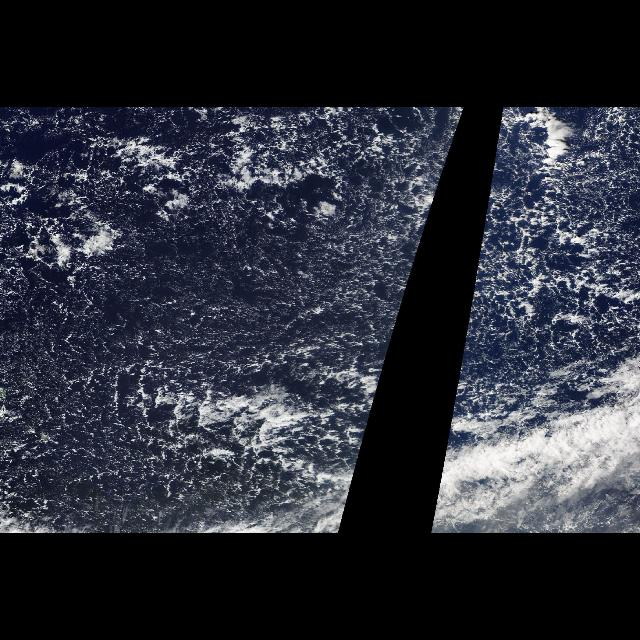Gravel: (2, 125, 398, 292), (12, 361, 306, 533), (468, 108, 640, 394)
Sugar: (152, 215, 384, 353)
